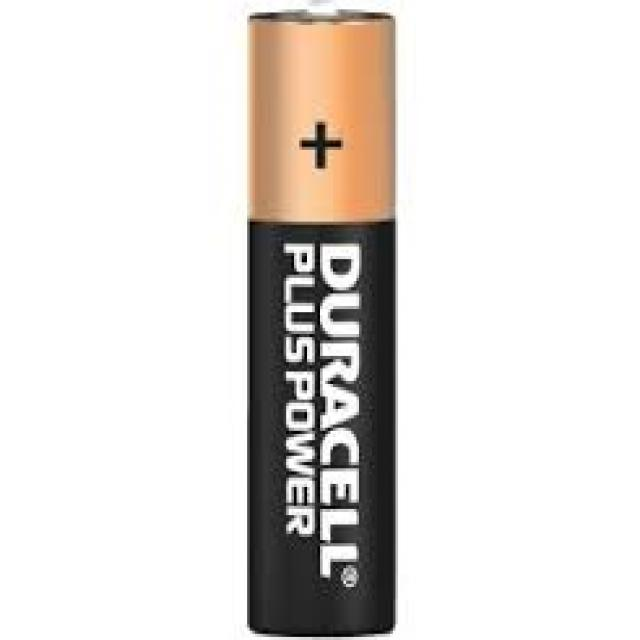battery: (245, 7, 397, 640)
